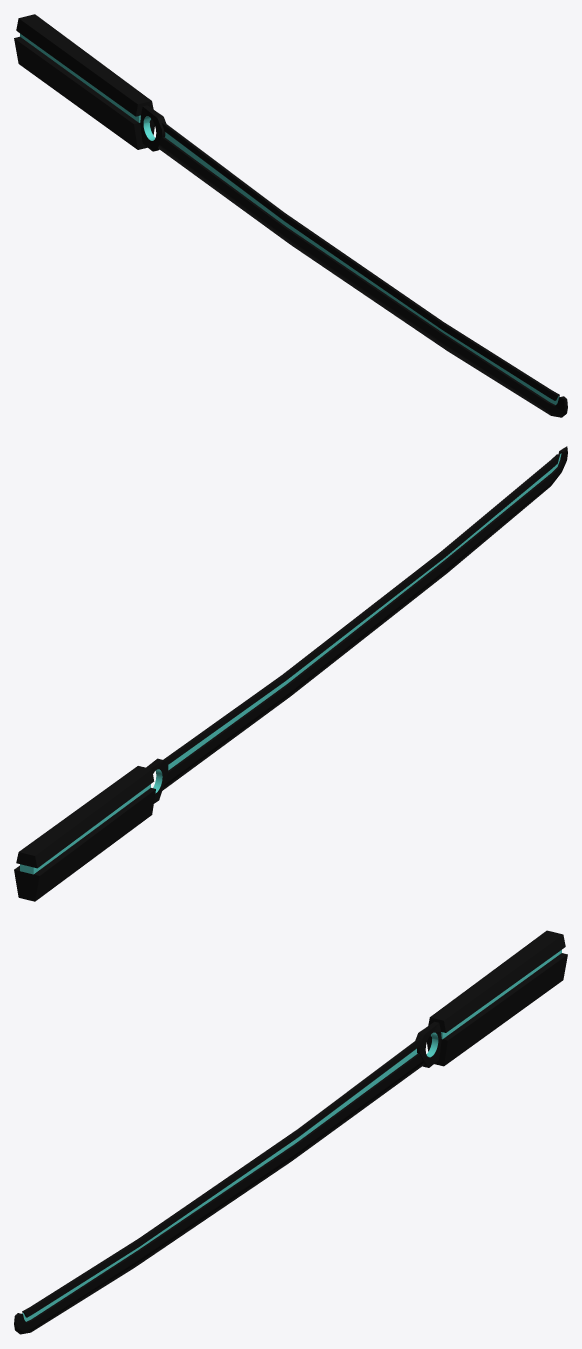
Rendered from new Katana.FBX.
The picture shows the model from 3 angles, top to bottom: view 1: azimuth 30°, elevation 25°; view 2: azimuth 150°, elevation 25°; view 3: azimuth 330°, elevation 25°; orthographic projection.
Parts seen in each view (by area): view 1: Box002, Box001; view 2: Box002, Box001; view 3: Box002, Box001.
Boxes of the visible parts, bbox=[...] form: Box002: bbox=[158, 122, 567, 417]; Box001: bbox=[14, 14, 166, 151]; Box002: bbox=[162, 446, 567, 790]; Box001: bbox=[14, 758, 168, 901]; Box002: bbox=[14, 1038, 424, 1334]; Box001: bbox=[415, 930, 567, 1067].
Bounding box in the file's own units: 4.1 × 8.8 × 150.
Materials: 1 (1 with a texture image).
